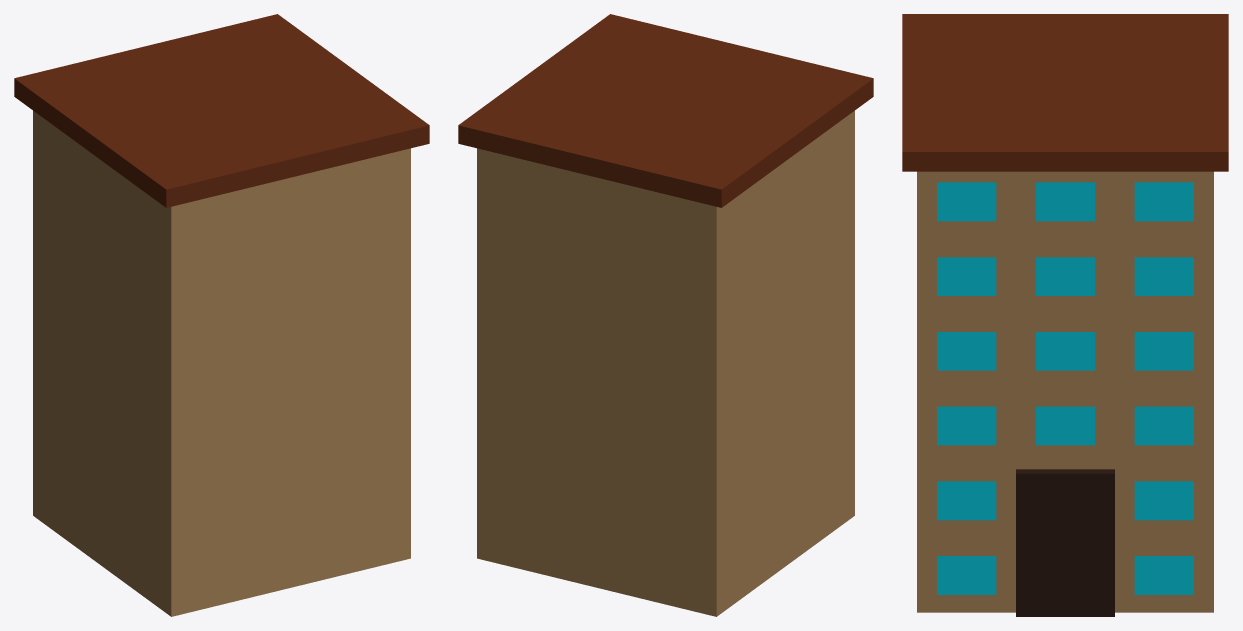
The model's file is house2.glb.
3 views of the same model, side by side, from view 1: azimuth 30°, elevation 25°; view 2: azimuth 150°, elevation 25°; view 3: azimuth 270°, elevation 25° (orthographic). The views are drawn at different scales.
Visible parts, largest first — view 1: House.001; view 2: House.001; view 3: House.001.
Part boxes in pixels (left/top/right/bottom): House.001: left=14, top=14, right=429, bottom=616; House.001: left=458, top=14, right=873, bottom=616; House.001: left=902, top=14, right=1228, bottom=616.
Size of the model in its own units: 3.3 by 5.21 by 3.3.
